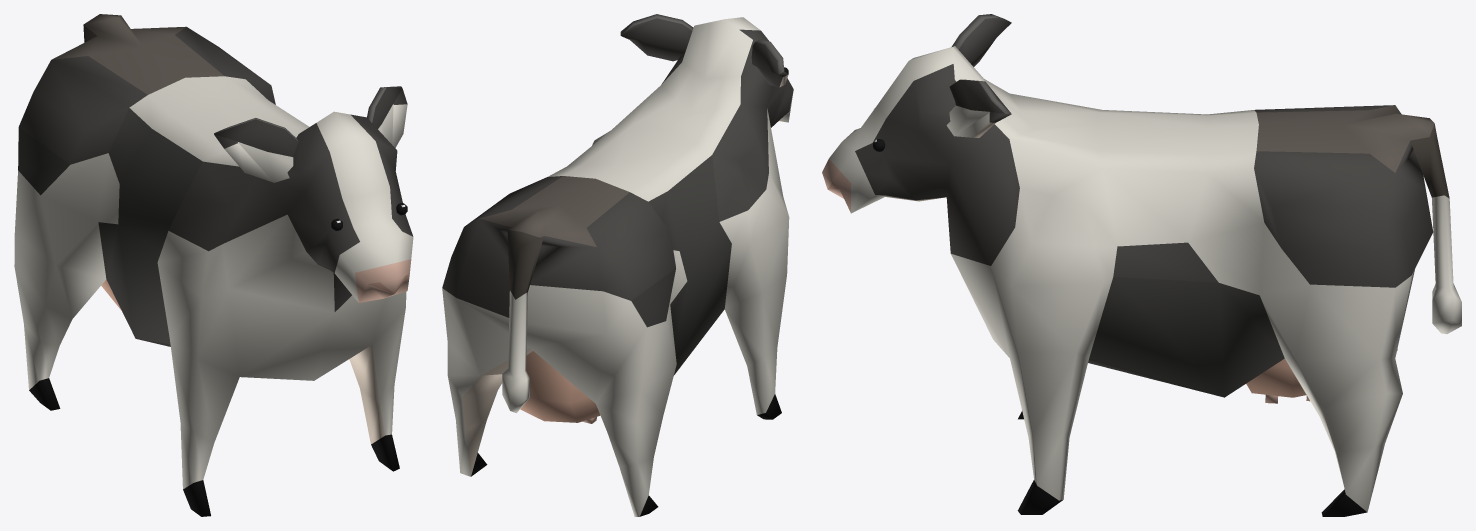
The model's file is cow.glb.
The picture shows the model from 3 angles, left to right: view 1: azimuth 30°, elevation 25°; view 2: azimuth 150°, elevation 25°; view 3: azimuth 270°, elevation 25°; orthographic projection. The views are drawn at different scales.
Visible parts, largest first — view 1: cow; view 2: cow; view 3: cow.
Part boxes in pixels (box(x1,y1,x2,y2)): cow: box(14, 14, 413, 516); cow: box(442, 14, 793, 516); cow: box(822, 14, 1461, 516).
Size of the model in its own units: 0.9202 by 1.59 by 2.2.
